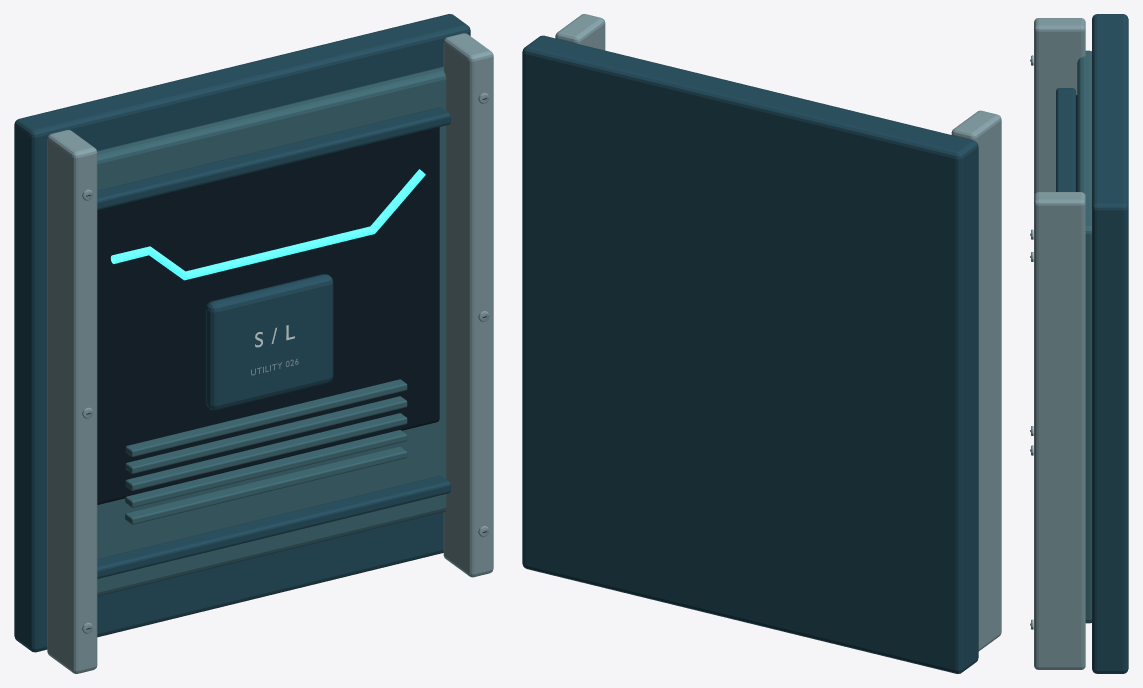
The model's file is SM_CorridorWall.fbx.
The picture shows the model from 3 angles, left to right: view 1: azimuth 30°, elevation 25°; view 2: azimuth 150°, elevation 25°; view 3: azimuth 270°, elevation 25°; orthographic projection. The views are drawn at different scales.
Parts seen in each view (by area): view 1: SM_CorridorWall; view 2: SM_CorridorWall; view 3: SM_CorridorWall.
Boxes of the visible parts, x1,y1,x2,y2 form: SM_CorridorWall: (14,14,493,673); SM_CorridorWall: (522,14,1001,673); SM_CorridorWall: (1030,14,1128,673).
Size of the model in its own units: 300 by 64.3 by 340.
